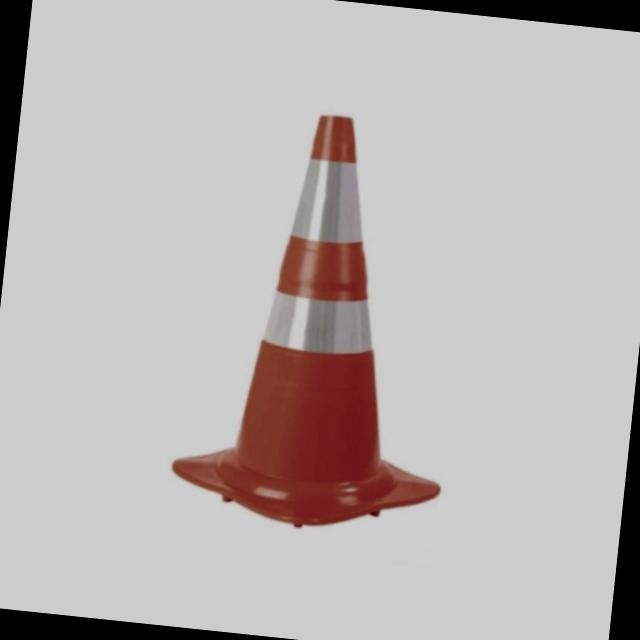cone: (158, 96, 488, 558)
